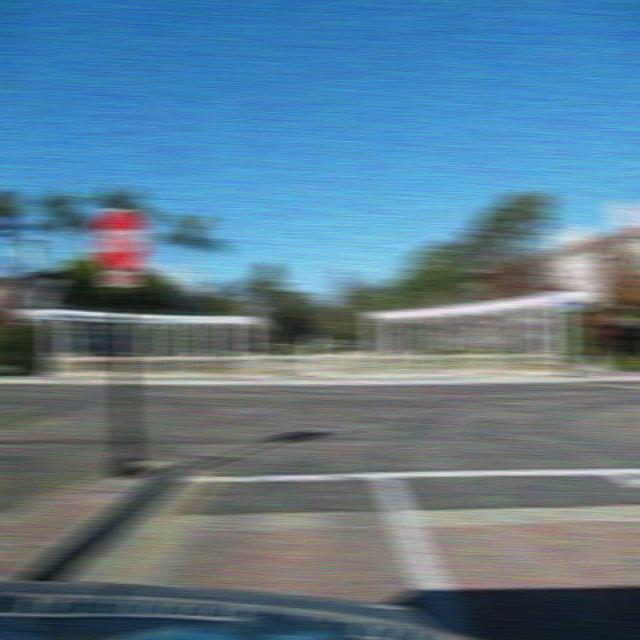stop: (90, 207, 148, 272)
